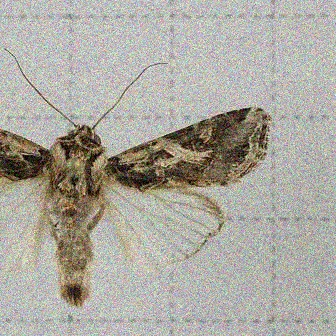Spodoptera litura: (0, 48, 272, 307)
